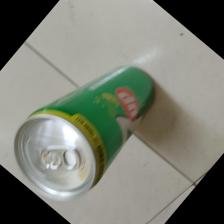7up: (14, 62, 158, 197)
